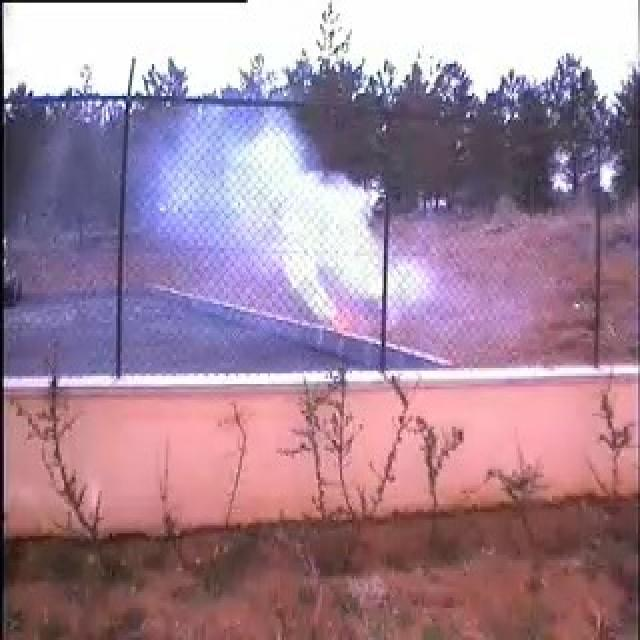smoke: (121, 100, 438, 349)
